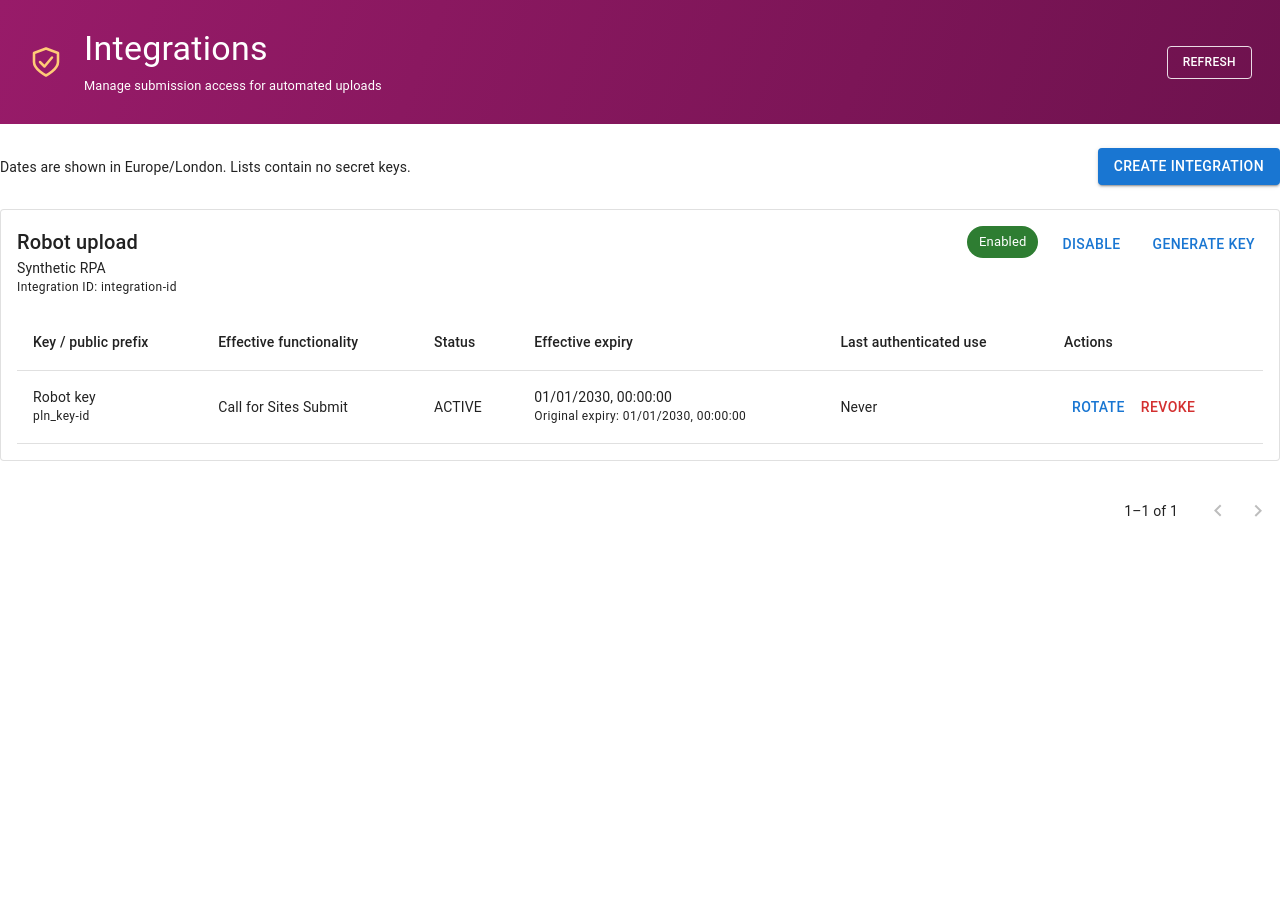
integration administration › defaults rotation to immediate revocation and displays both returned effective expiries
The image size is (1280, 900).
Expected: the heading "Robot upload" is shown, [17,230,138,254]
Click the button with aria-label "Rotate Robot key" at point(1098, 407), box [1064,389,1133,425]
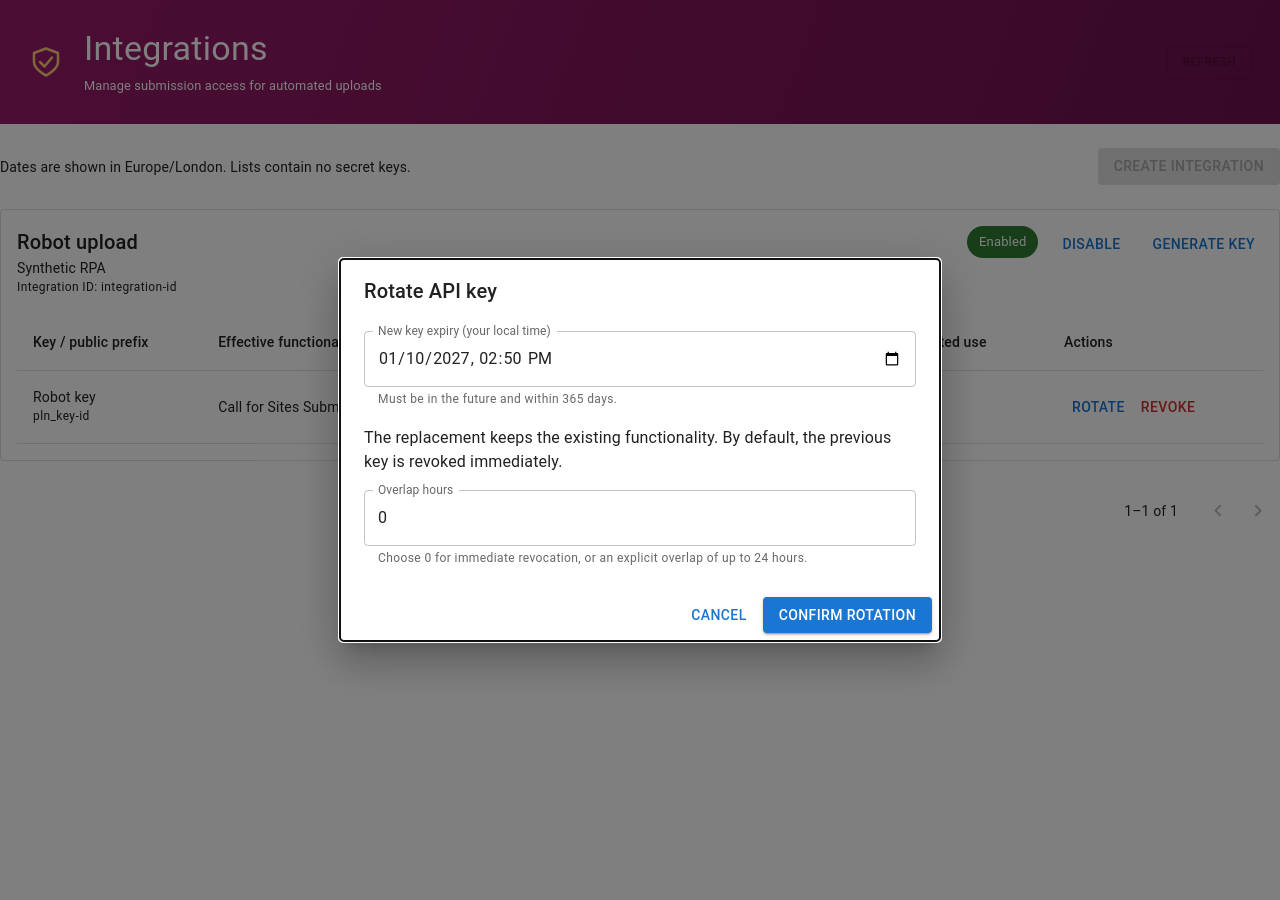
Expected: the number field labelled "Overlap hours" holds "0", [364,490,916,546]
Click the button "Confirm rotation" at point(847, 615), box [763,597,932,633]
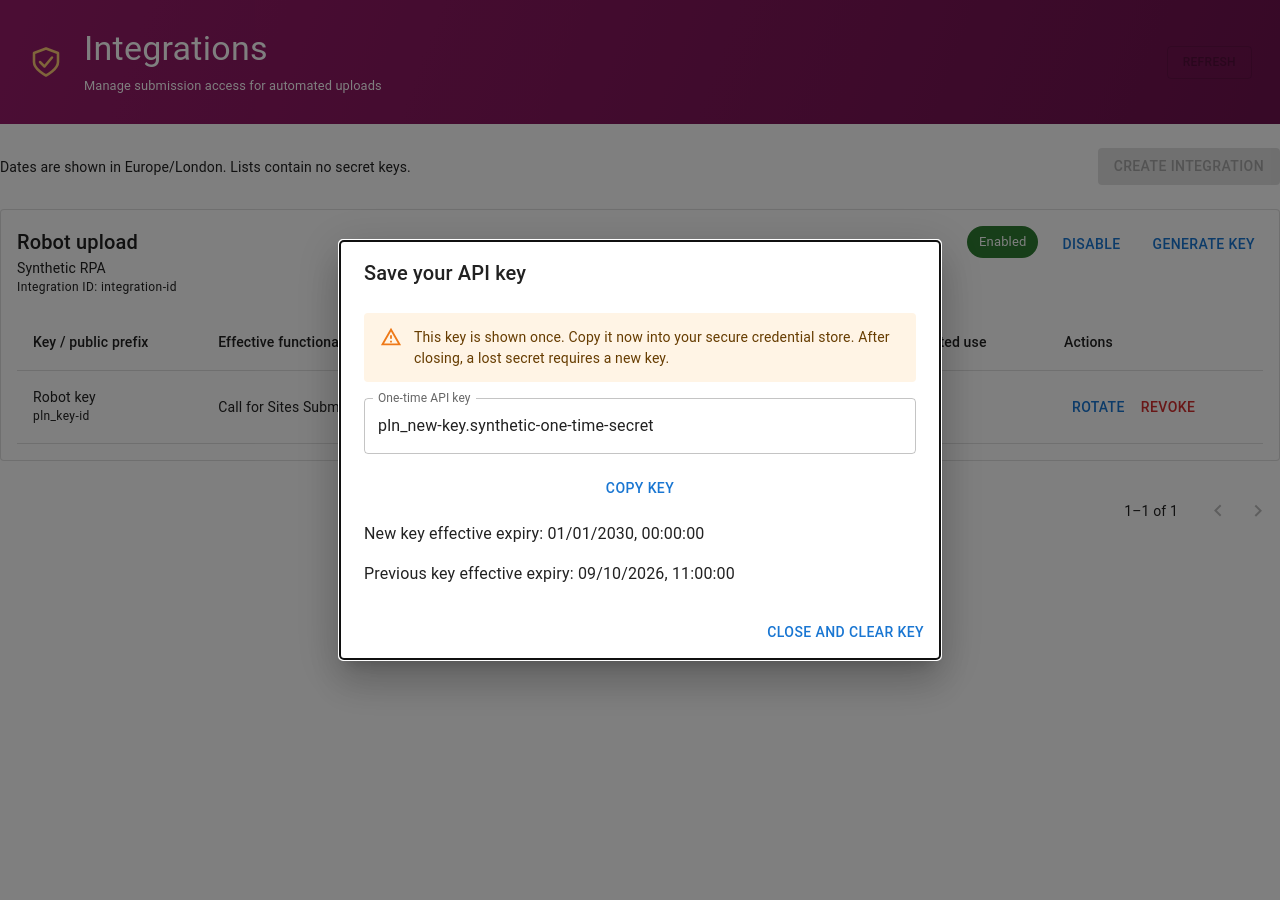
Expected: the text box labelled "One-time API key" is shown, [378,414,902,437]
Expected: the text "New key effective expiry: 01/01/2030, 00:00:00" is shown, [364,524,704,543]
Expected: the text "Previous key effective expiry: 09/10/2026, 11:00:00" is shown, [364,564,735,583]
